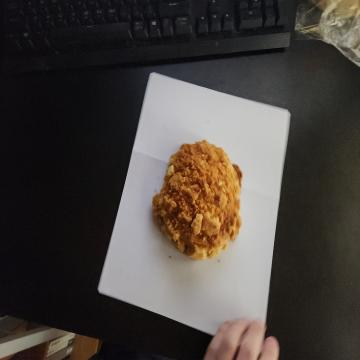soboru_bread: (152, 138, 246, 262)
